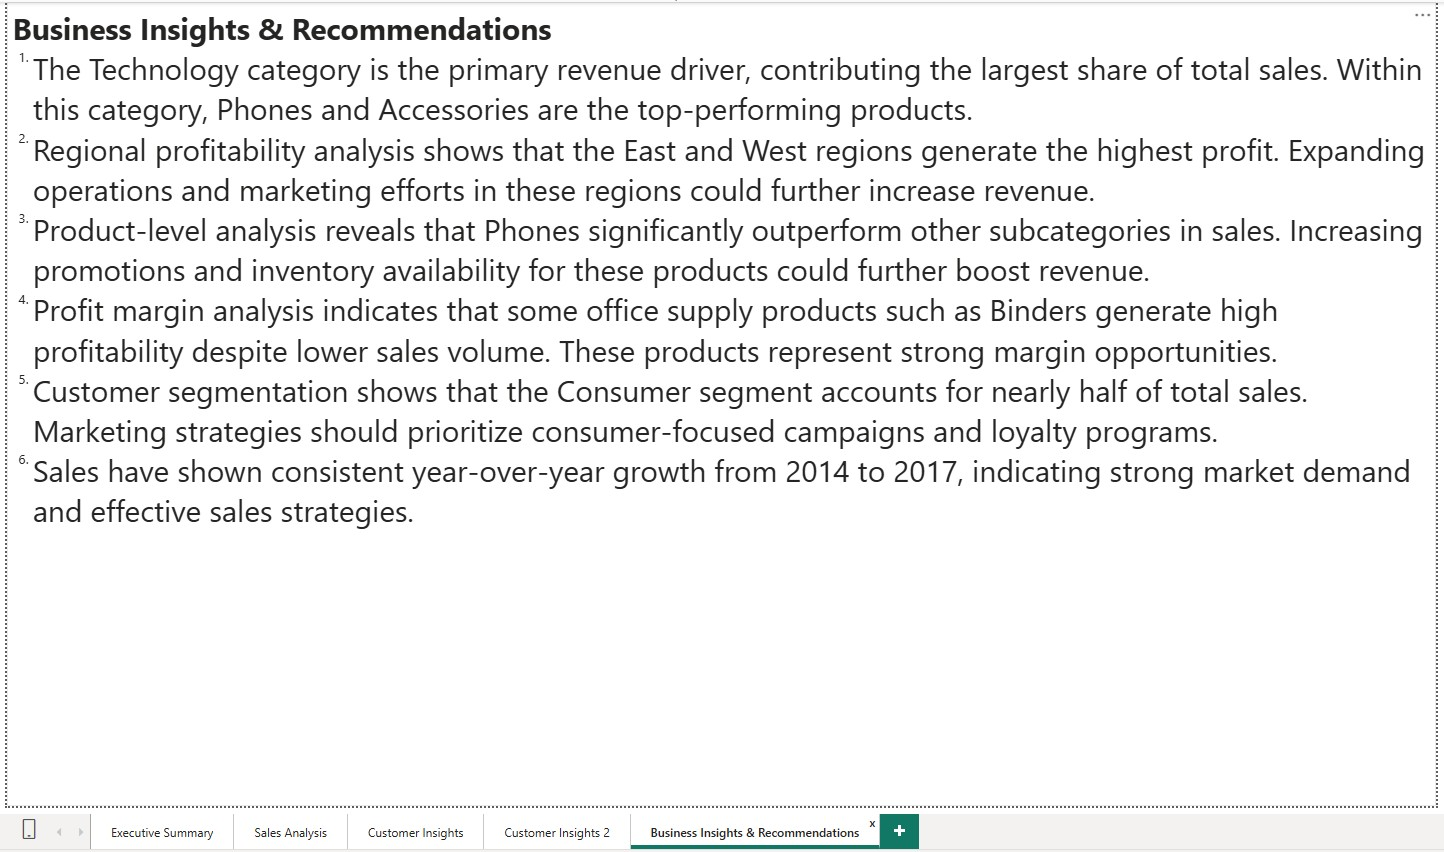

Layout of this report page (visuals, bound fields, positions):
{"tool":"powerbi","page":{"name":"Business Insights & Recommendations","canvas":[1280,720],"ordinal":4},"visuals":[{"type":"textbox","box":[0,0,1279.7,720],"z":0}]}

Visuals, with their boxes on the page's 1280x720 design canvas (x1, y1, x2, y2). These are canvas units, not pixel positions in the 1444x852 screenshot, which may show the page scaled, cropped or inside an application window:
textbox: {"x1": 0, "y1": 0, "x2": 1280, "y2": 720}
